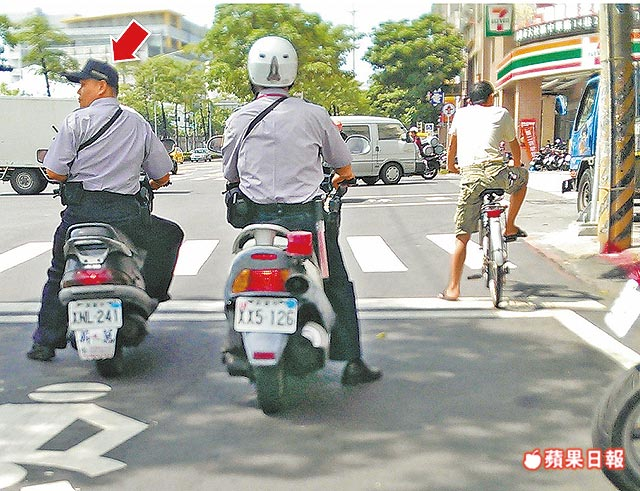helmet: (239, 31, 310, 93)
